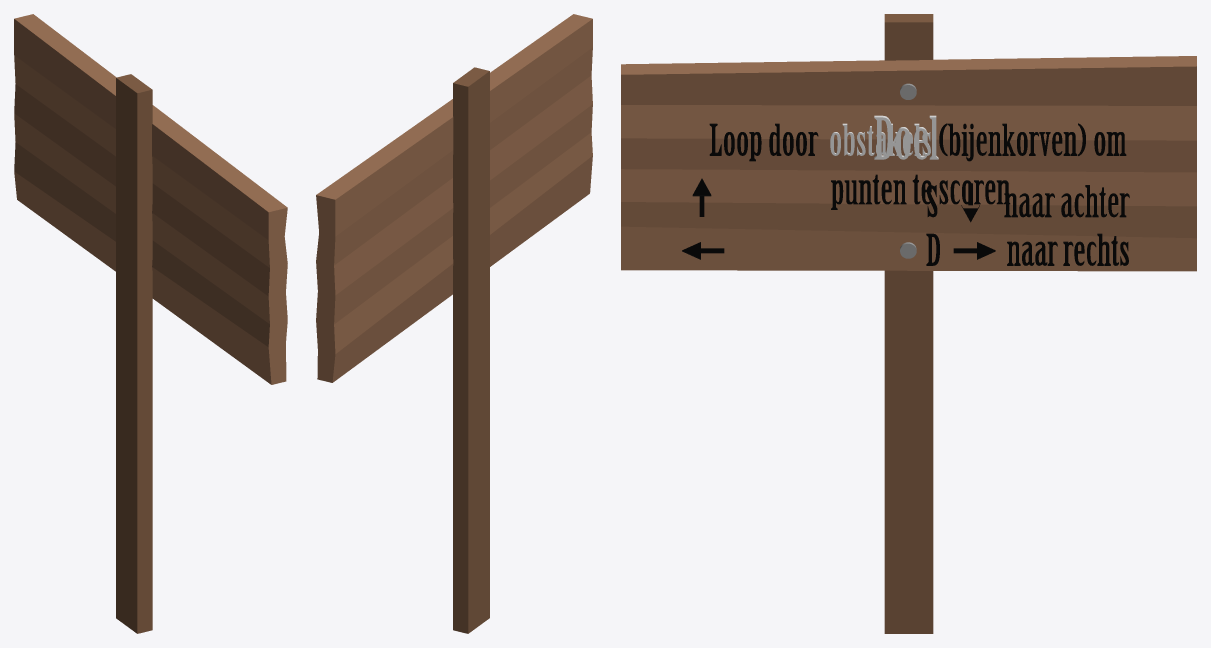
The model's file is bord_obstakels_punten.fbx.
The picture shows the model from 3 angles, left to right: view 1: azimuth 30°, elevation 25°; view 2: azimuth 150°, elevation 25°; view 3: azimuth 270°, elevation 25°; orthographic projection. The views are drawn at different scales.
Visible parts, largest first — view 1: Cube, Cube.001; view 2: Cube, Cube.001; view 3: Cube, Cube.001, Subtexr, Subtexr.001, MAIN TEXT.
Part boxes in pixels (x1,y1,x2,y2): Cube: (14,14,287,384); Cube.001: (116,74,152,633); Cube: (316,14,592,382); Cube.001: (453,67,489,633); Cube: (621,56,1196,271); Cube.001: (884,14,933,633); Subtexr: (709,123,1126,209); Subtexr.001: (926,185,1129,265); MAIN TEXT: (874,115,938,159).
Bounding box in the file's own units: 33.51 × 466 × 398.
